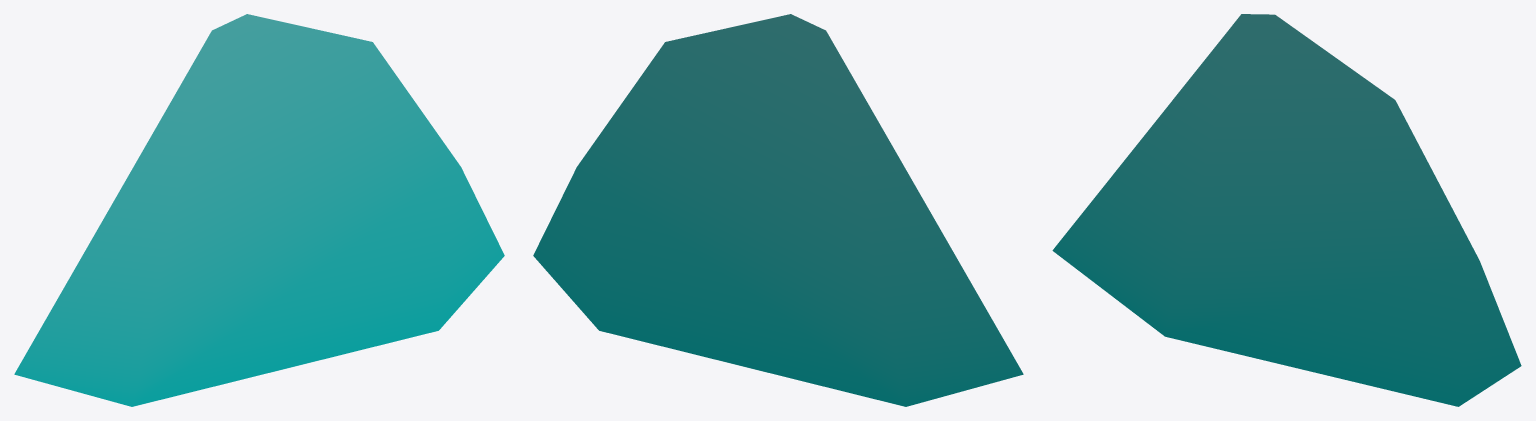
File: xefmcgrqx_VarG_LOD3.fbx
3 renders of one model, left to right at view 1: azimuth 30°, elevation 25°; view 2: azimuth 150°, elevation 25°; view 3: azimuth 330°, elevation 25°, orthographic. The views are drawn at different scales.
Parts seen in each view (by area): view 1: _xqlq_VarG_LOD6; view 2: _xqlq_VarG_LOD6; view 3: _xqlq_VarG_LOD6.
Boxes of the visible parts, x1=… form: _xqlq_VarG_LOD6: x1=14, y1=14, x2=504, y2=406; _xqlq_VarG_LOD6: x1=533, y1=14, x2=1023, y2=406; _xqlq_VarG_LOD6: x1=1052, y1=14, x2=1521, y2=406.
Size of the model in its own units: 72.84 by 51.75 by 0.
